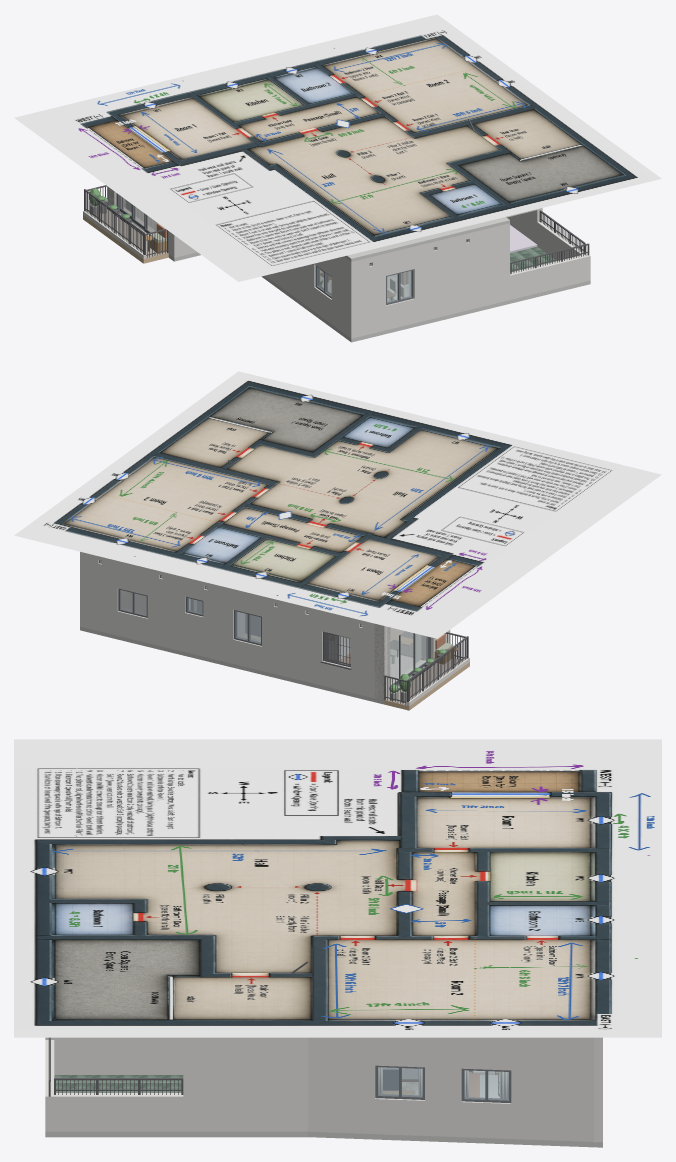
File: MyFlat_V2_Hall_Panelled.glb
The picture shows the model from 3 angles, top to bottom: view 1: azimuth 30°, elevation 25°; view 2: azimuth 150°, elevation 25°; view 3: azimuth 270°, elevation 25°; orthographic projection. The views are drawn at different scales.
Parts seen in each view (by area): view 1: PLAN_REFERENCE_OVERLAY, WALL_EXT_S_HALL, WALL_EXT_W_HALL, PARAPET_OPENSQ_S, SLAB_FLOOR_STRUCTURAL, BALCONY_RAILING_W, SLAB_ROOF, PARAPET_OPENSQ_E, RAILING_OPENSQ_S, R1_DEF_BALCONY_FLOOR_FINISH, WALL_EXT_E_STAIR, HP_OPENSQ_FINISH (+2 smaller); view 2: PLAN_REFERENCE_OVERLAY, WALL_EXT_N_R1, WALL_EXT_N_R2, WALL_EXT_N_KIT, WALL_EXT_N_B2, BALCONY_RAILING_W, SLAB_FLOOR_STRUCTURAL, PILLAR_R1_NW, R1_DEF_BALCONY_CURTAIN_SHEER, R1_DEF_BALCONY_FLOOR_FINISH, WINDOW_W2_GLASS, WALL_EXT_W_R1_BALCONY (+1 smaller); view 3: PLAN_REFERENCE_OVERLAY, WALL_EXT_E_R2_TAPERED, WALL_EXT_E_STAIR, PARAPET_OPENSQ_E, WALL_INT_OPENSQ_W, SLAB_FLOOR_STRUCTURAL, HP_OPENSQ_FINISH, WINDOW_W5_GLASS, WINDOW_W6_GLASS, RAILING_OPENSQ_E, WALL_EXT_N_R2, PARAPET_OPENSQ_S (+2 smaller).
Boxes of the visible parts, x1,y1,x2,y2 form: PLAN_REFERENCE_OVERLAY: (14,14,661,281); WALL_EXT_S_HALL: (348,223,509,338); WALL_EXT_W_HALL: (265,256,356,338); PARAPET_OPENSQ_S: (510,254,590,299); SLAB_FLOOR_STRUCTURAL: (168,252,590,342); BALCONY_RAILING_W: (84,189,145,254); SLAB_ROOF: (344,217,509,261); PARAPET_OPENSQ_E: (537,221,587,260); RAILING_OPENSQ_S: (510,243,589,274); R1_DEF_BALCONY_FLOOR_FINISH: (96,209,168,258); WALL_EXT_E_STAIR: (507,208,542,244); HP_OPENSQ_FINISH: (510,246,556,272); PLAN_REFERENCE_OVERLAY: (14,371,661,638); WALL_EXT_N_R1: (283,601,387,700); WALL_EXT_N_R2: (80,553,176,649); WALL_EXT_N_KIT: (211,584,283,676); WALL_EXT_N_B2: (177,575,211,658); BALCONY_RAILING_W: (407,636,468,701); SLAB_FLOOR_STRUCTURAL: (80,626,384,704); PILLAR_R1_NW: (374,623,390,700); R1_DEF_BALCONY_CURTAIN_SHEER: (390,631,421,681); R1_DEF_BALCONY_FLOOR_FINISH: (385,658,462,705); WINDOW_W2_GLASS: (236,611,260,642); WALL_EXT_W_R1_BALCONY: (375,624,449,698); PLAN_REFERENCE_OVERLAY: (14,739,661,1037); WALL_EXT_E_R2_TAPERED: (307,1037,594,1141); WALL_EXT_E_STAIR: (183,1037,307,1131); PARAPET_OPENSQ_E: (54,1093,183,1131); WALL_INT_OPENSQ_W: (54,1037,183,1074); SLAB_FLOOR_STRUCTURAL: (45,1131,602,1147); HP_OPENSQ_FINISH: (54,1075,183,1092); WINDOW_W5_GLASS: (464,1070,508,1099); WINDOW_W6_GLASS: (378,1067,422,1096); RAILING_OPENSQ_E: (54,1078,183,1094); WALL_EXT_N_R2: (594,1037,602,1142); PARAPET_OPENSQ_S: (45,1040,54,1131).
Size of what is drawn, in the model's own units: 18.03 by 4.33 by 16.55.
Materials: 127 (5 with a texture image).
